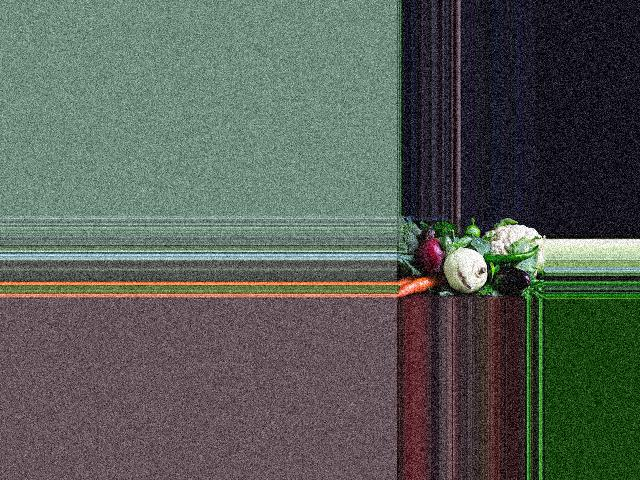carrot: (395, 270, 436, 299)
